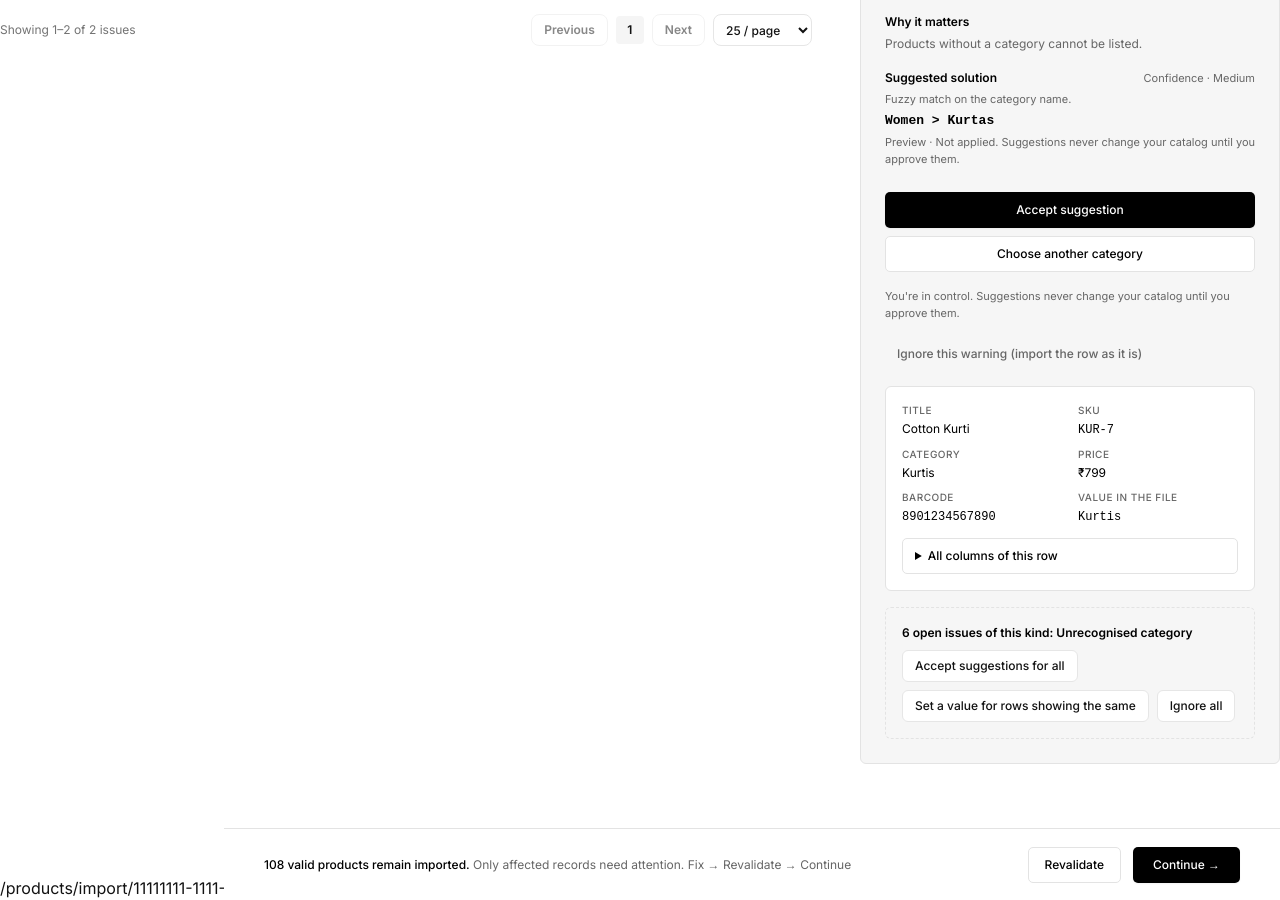
it: ImportIssuesPage › changes every open issue of a kind and lists what was left out
This screenshot has width=1280, height=900.
(page scrolled)
Click the button "Accept suggestions for all": (990, 666) [902, 650, 1078, 682]
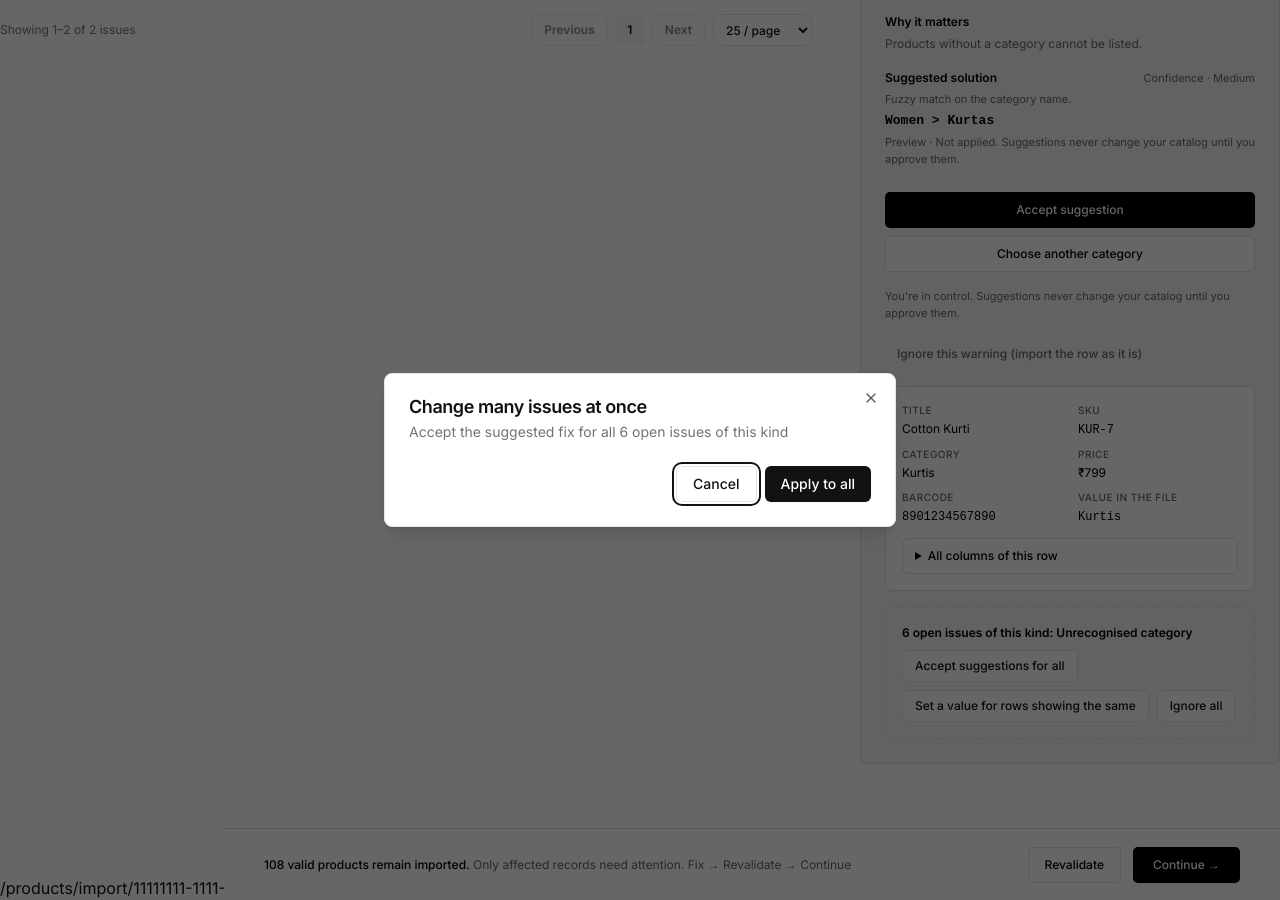
Click the button "Apply to all": (818, 484) [764, 466, 871, 502]
(page scrolled)
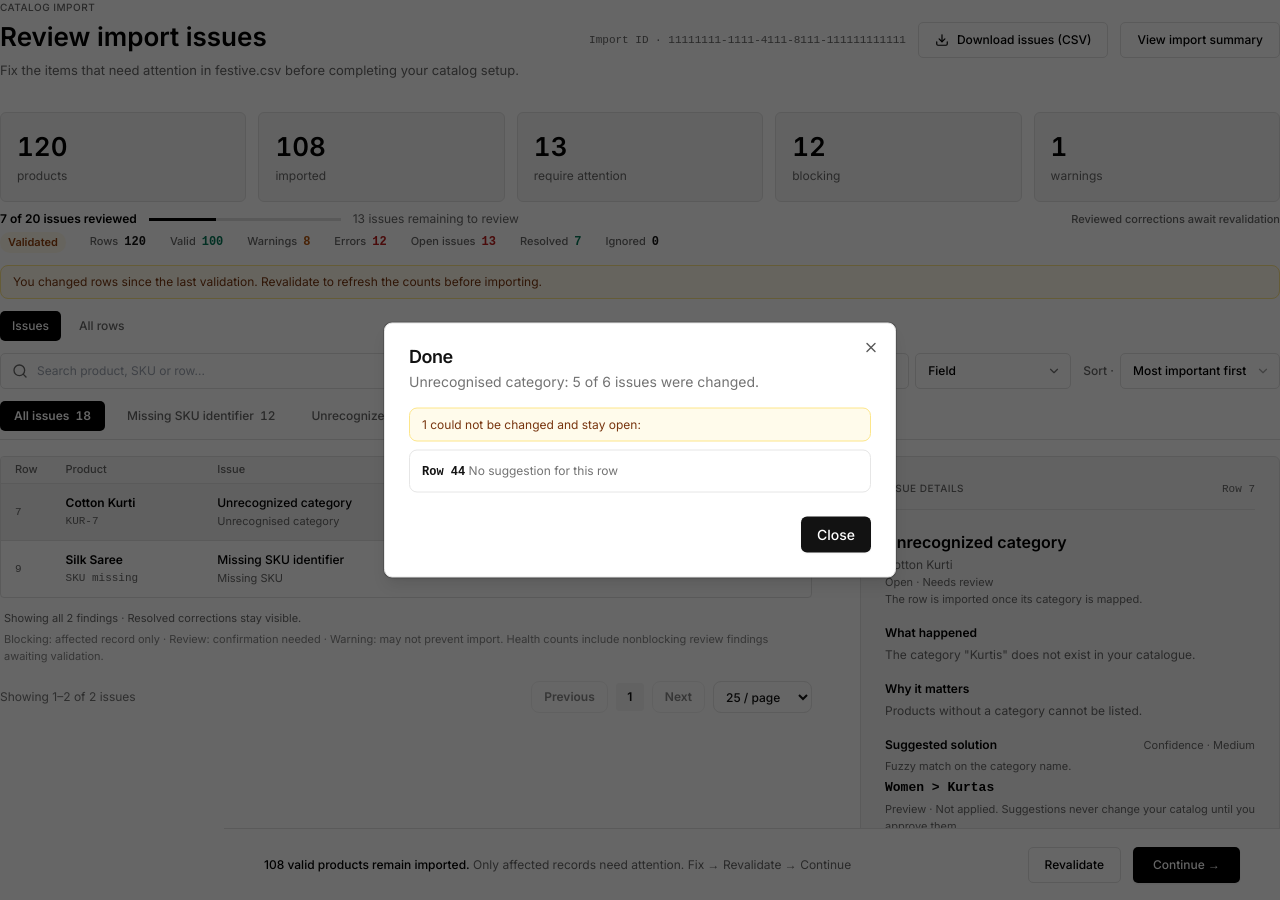
Expected: the text "Unrecognised category: 5 of 6 issues were changed." is shown, [409, 372, 759, 390]
Expected: the text "No suggestion for this row" is shown, [469, 462, 618, 478]
